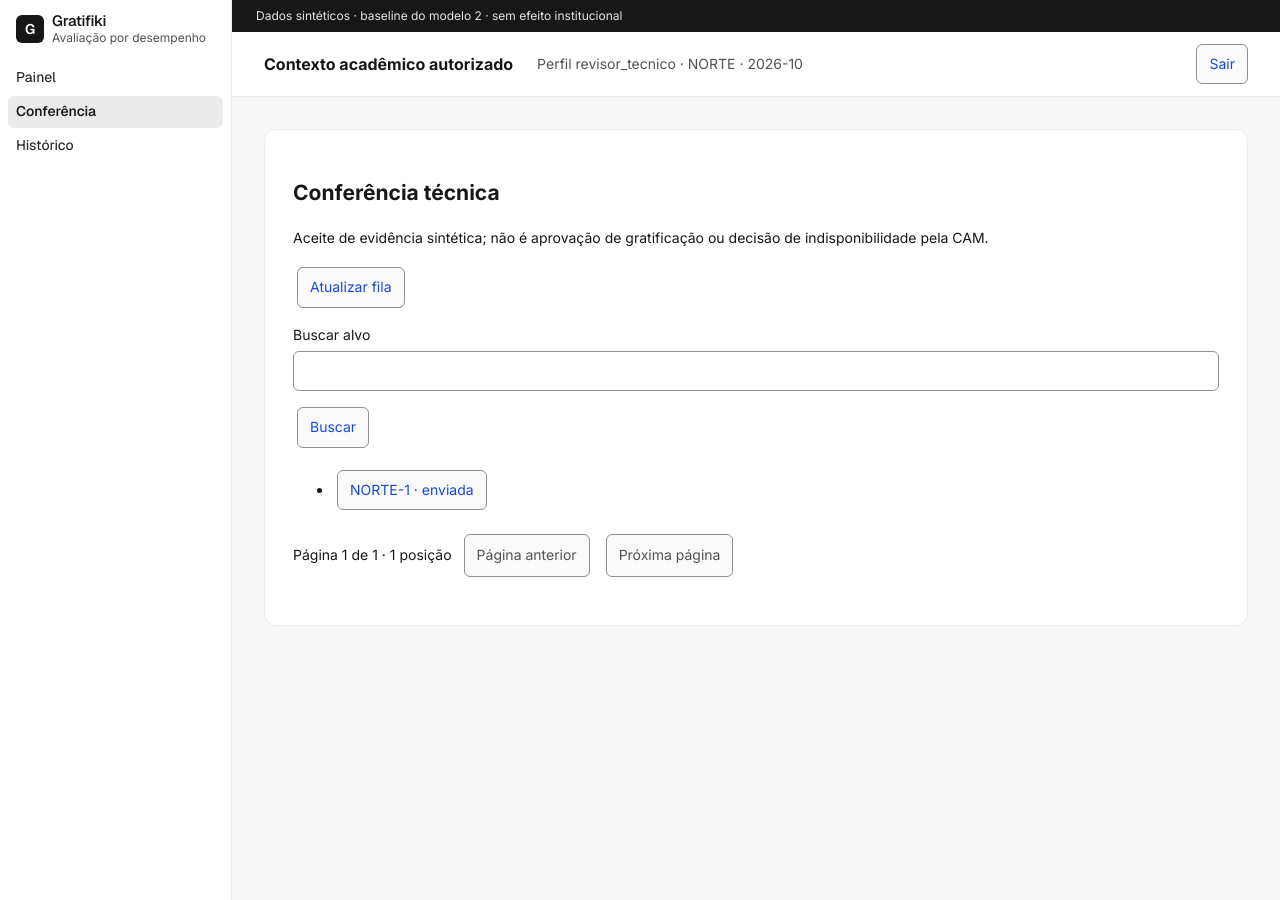
Test: integrates the queue into the authenticated host; requires claim then a motivated return
Click the button "NORTE-1 · enviada". click: [412, 490]
box: [337,470,487,510]
(page scrolled)
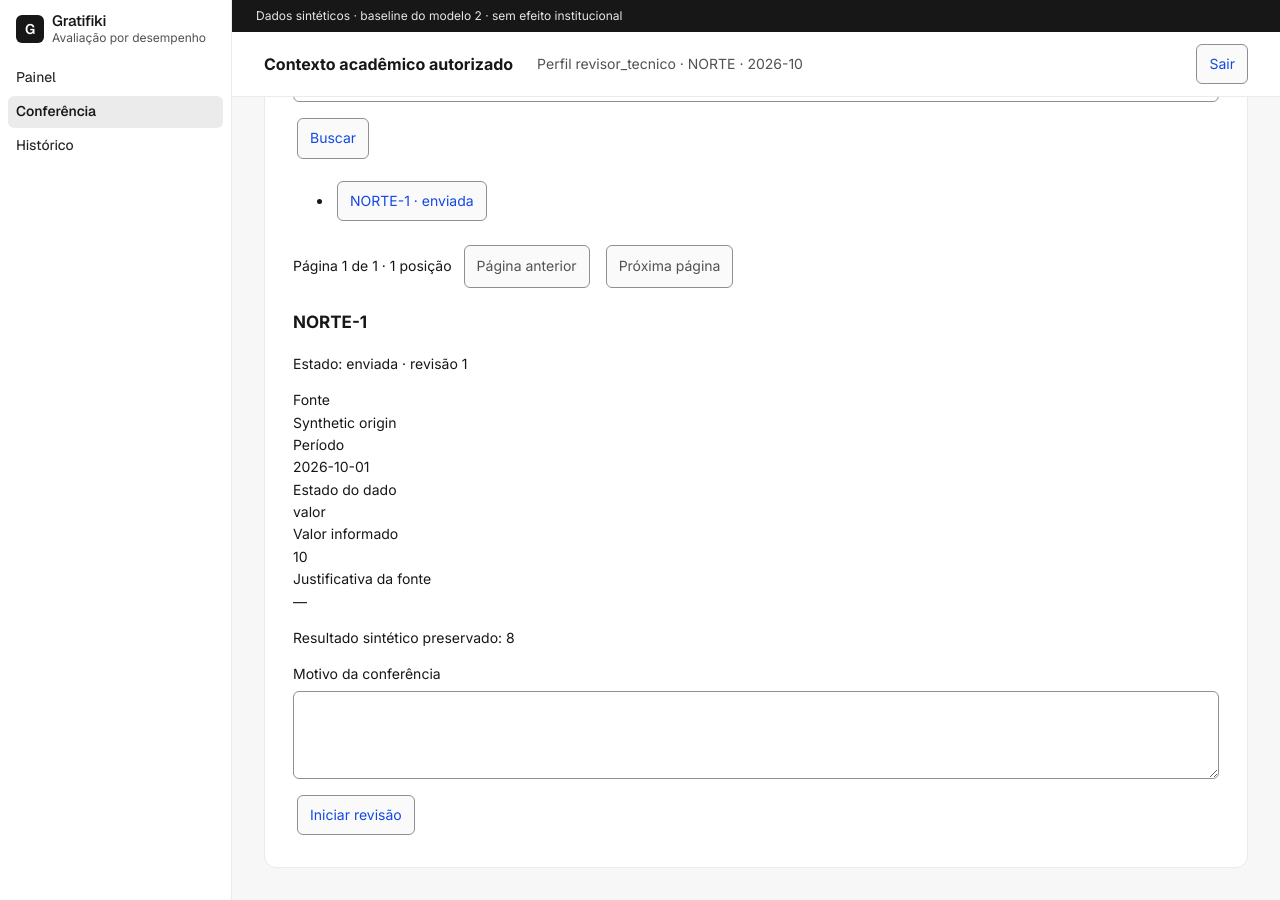
Check: the button "Aceitar evidência" is not shown
Check: the text "Synthetic origin" is shown, box [293,414,396,430]
Click the button "Iniciar revisão". click: [356, 815]
box: [297,795,415,835]
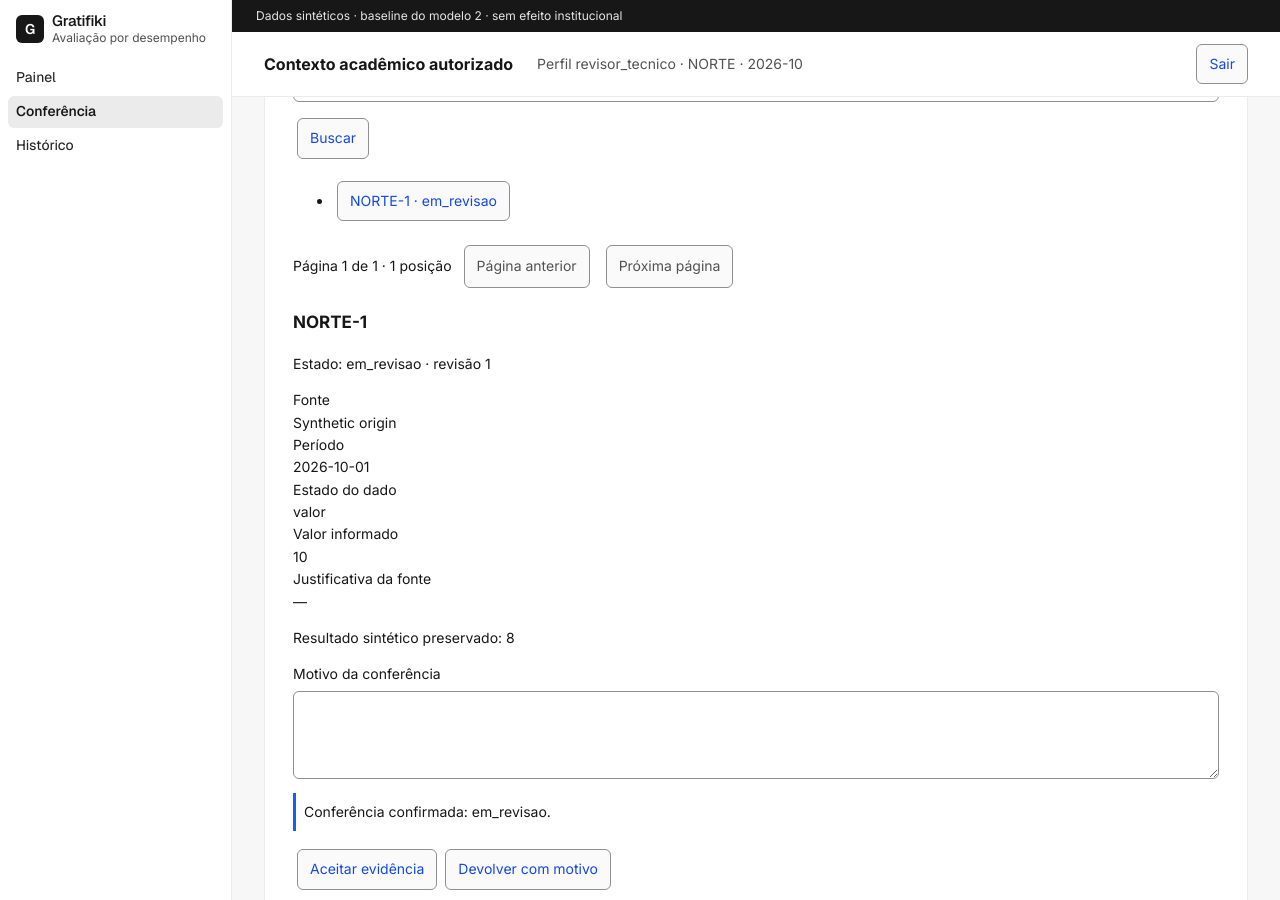
Check: the button "Aceitar evidência" is enabled, box [297,849,437,890]
Click the button "Devolver com motivo". click: [528, 869]
box: [445,849,611,890]
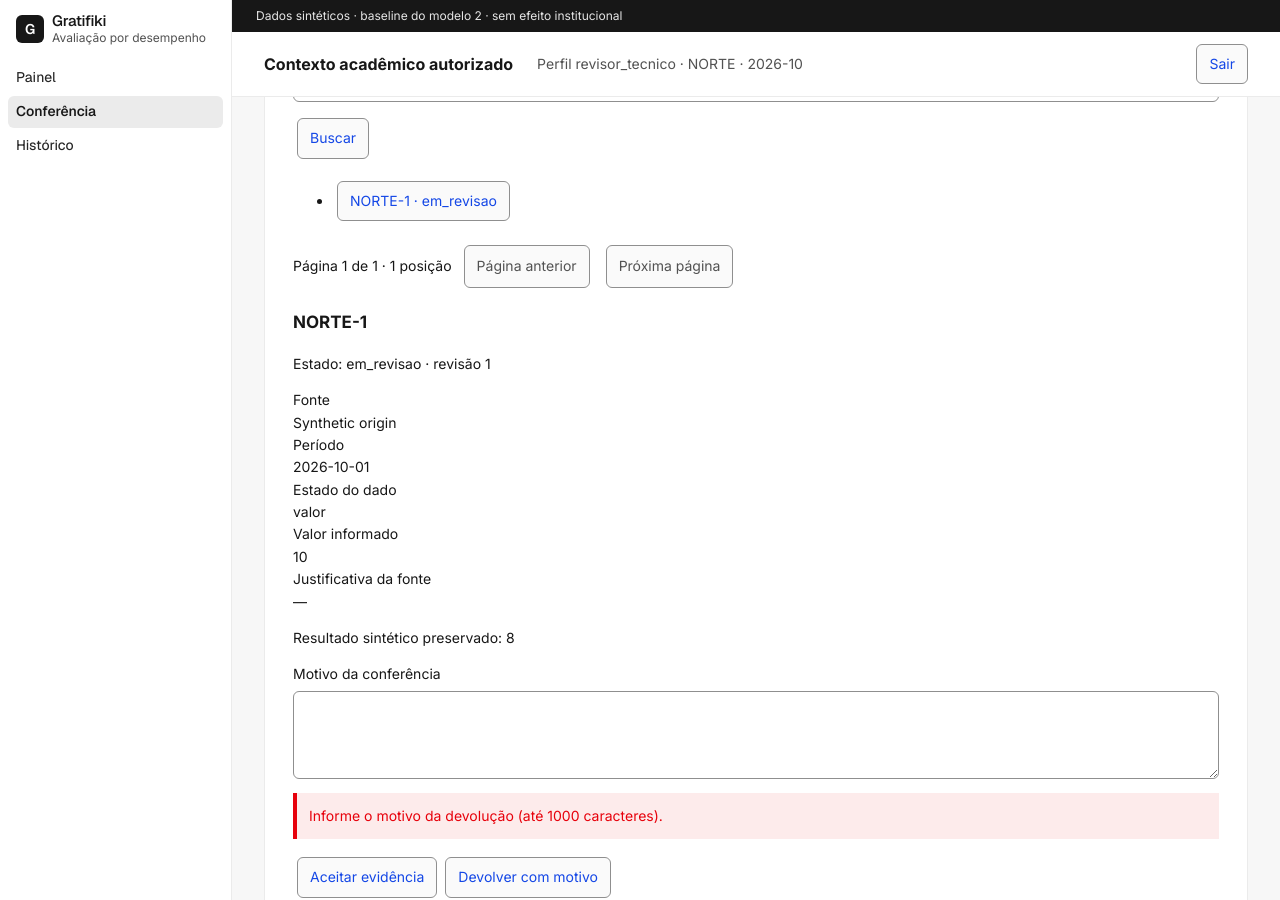
Check: the message "Informe o motivo da devolução (até 1000 caracteres)." is shown, box [293,793,1219,839]
Type "  Corrigir a fonte sintética  " into the text box labelled "Motivo da conferência". click: [756, 735]
box: [293,691,1219,779]
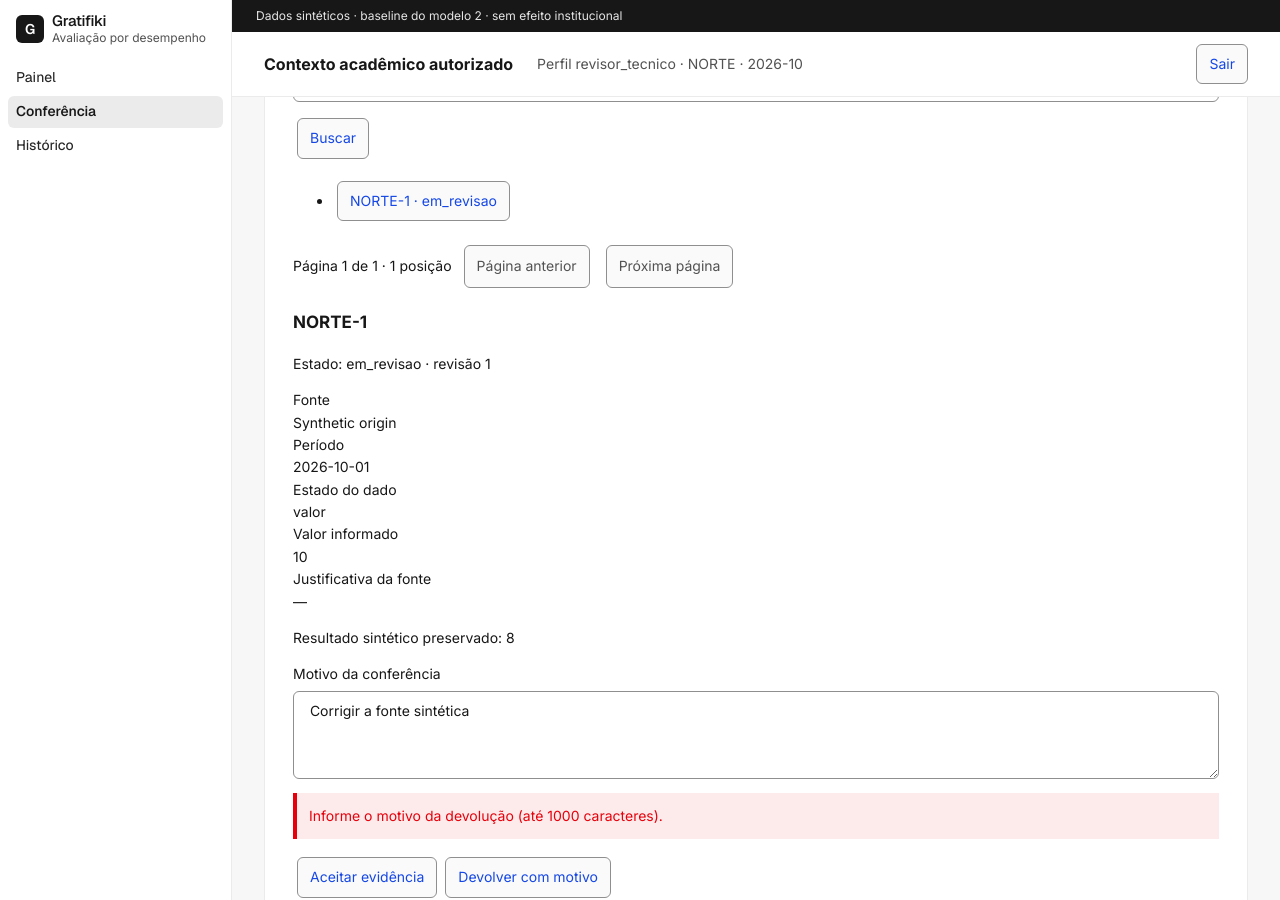
Click the button "Devolver com motivo". click: [528, 877]
box: [445,857,611,898]
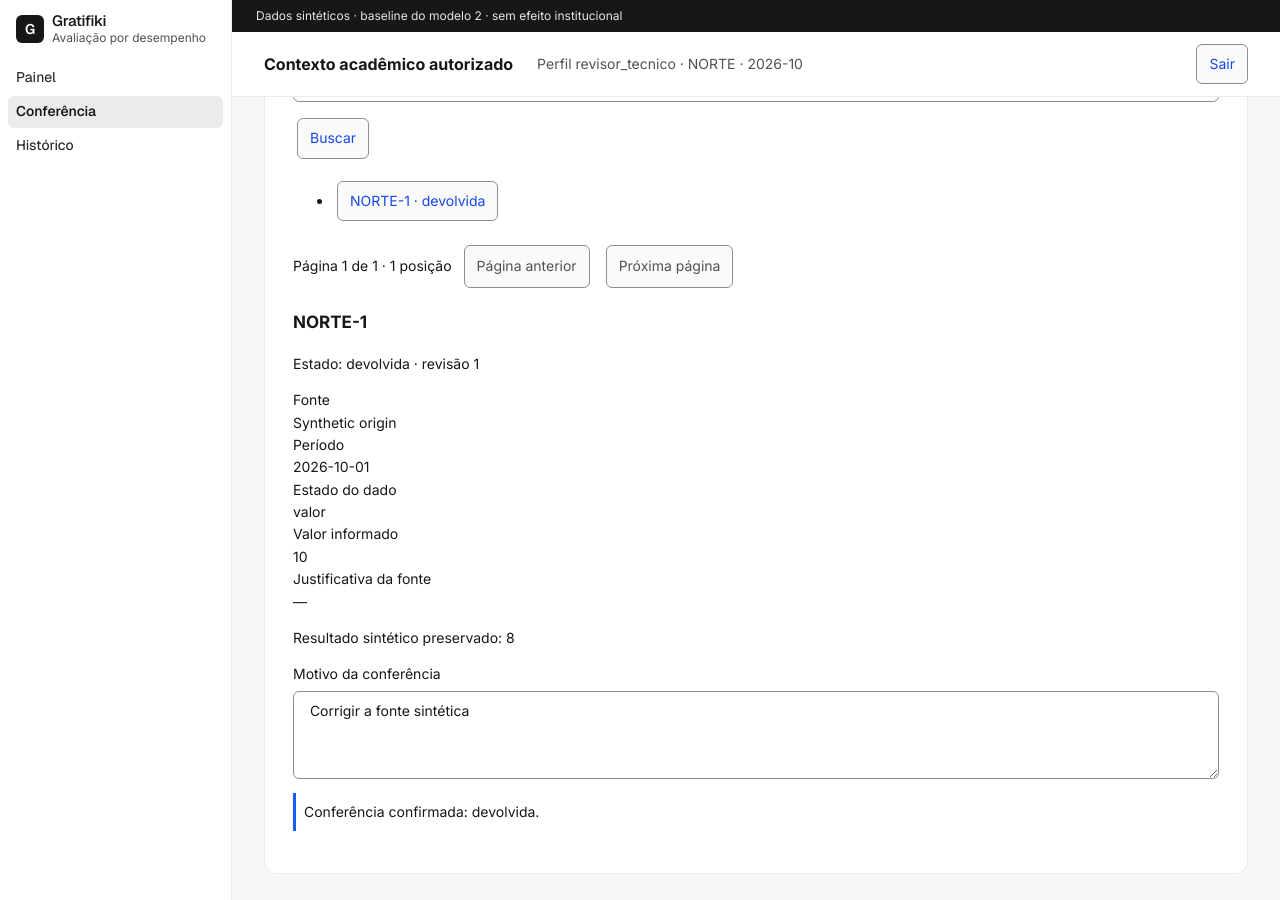
Check: the text "Conferência confirmada: devolvida." is shown, box [293,793,1219,831]
